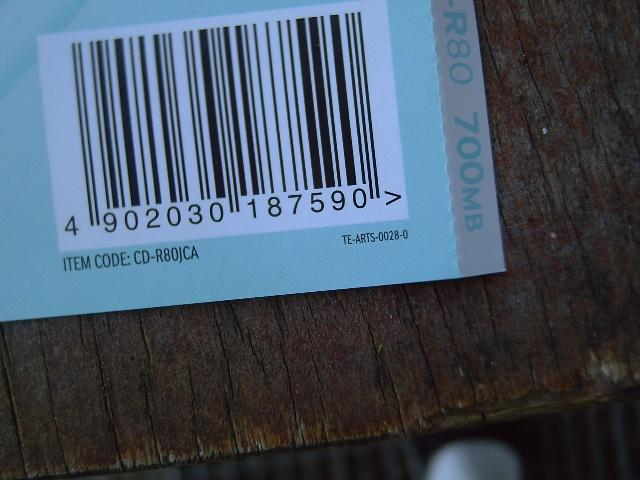Barcode: (59, 6, 382, 243)
